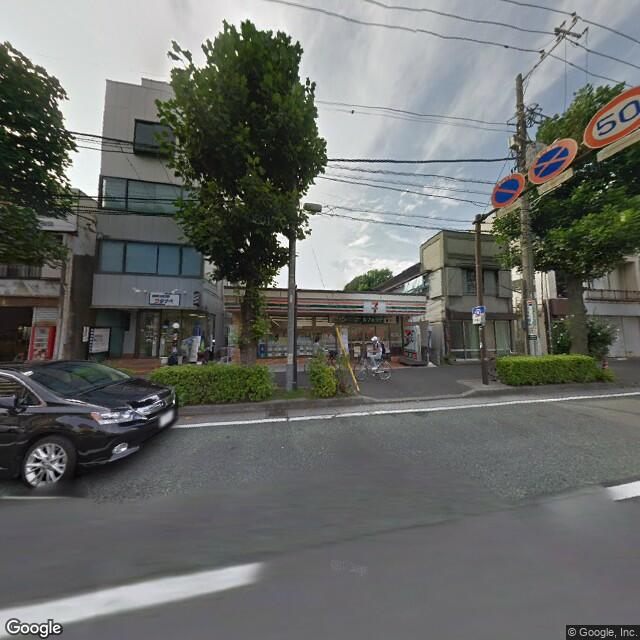7-eleven: (227, 290, 432, 320), (402, 320, 420, 356)
